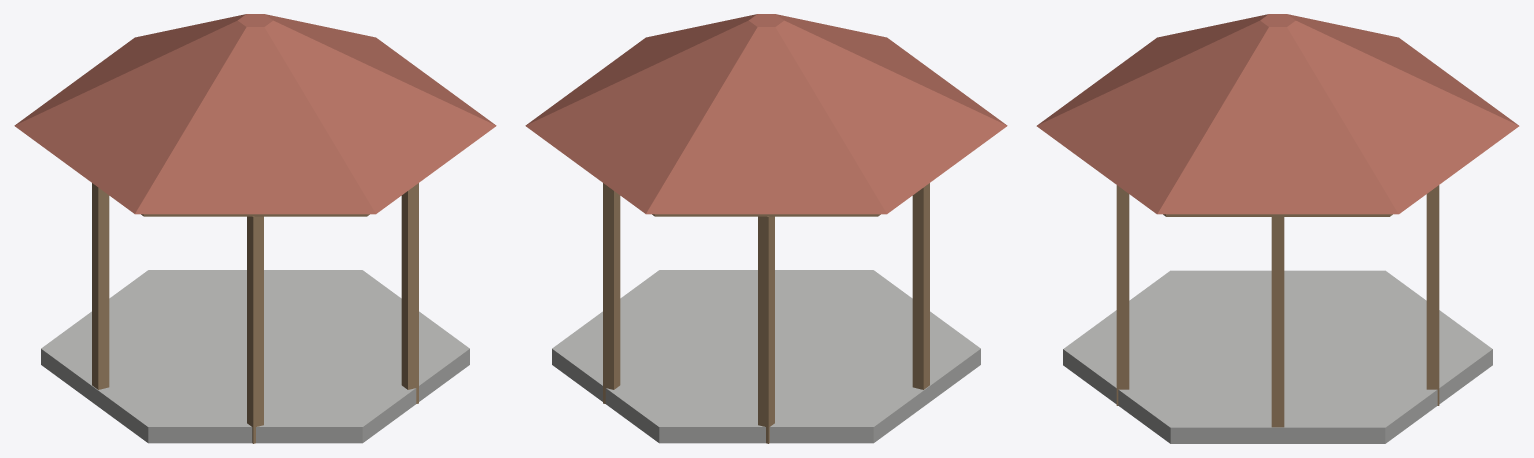
Rendered from Kamelya.glb.
3 views of the same model, side by side, from view 1: azimuth 30°, elevation 25°; view 2: azimuth 150°, elevation 25°; view 3: azimuth 270°, elevation 25° (orthographic).
Parts seen in each view (by area): view 1: Kamelya; view 2: Kamelya; view 3: Kamelya.
Part boxes in pixels (bbox=[...]): Kamelya: bbox=[14, 14, 496, 443]; Kamelya: bbox=[525, 14, 1007, 443]; Kamelya: bbox=[1036, 14, 1519, 443].
Bounding box in the file's own units: 4.68 × 4.25 × 5.4.
